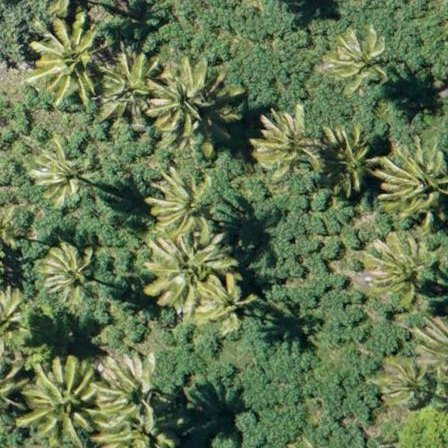palm_tree: (254, 104, 332, 187), (376, 135, 448, 219), (143, 170, 224, 242), (368, 233, 439, 311), (139, 227, 219, 295), (24, 361, 92, 440), (35, 19, 103, 98), (323, 23, 396, 95), (151, 61, 224, 133), (97, 353, 170, 422), (97, 54, 161, 118), (322, 125, 377, 190), (32, 143, 90, 199), (39, 241, 95, 298), (381, 355, 437, 411), (200, 277, 251, 329)
